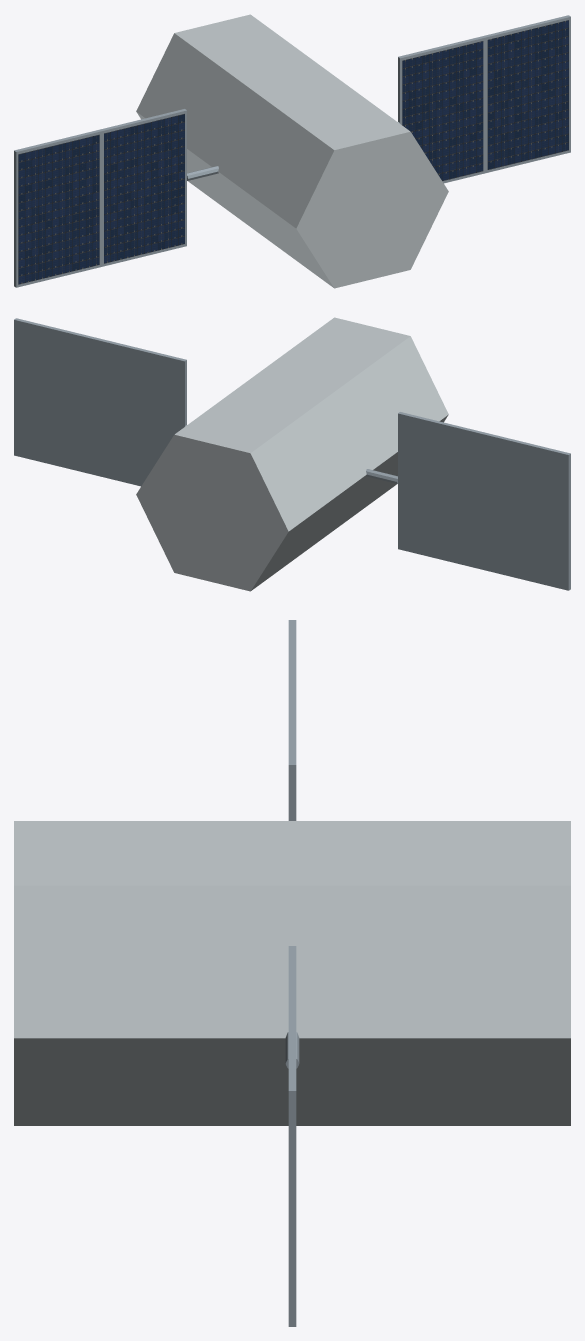
The model's file is ref-leostar-25123.glb.
3 views of the same model, one above another, from view 1: azimuth 30°, elevation 25°; view 2: azimuth 150°, elevation 25°; view 3: azimuth 270°, elevation 25° (orthographic). The views are drawn at different scales.
Visible parts, largest first — view 1: Spacecraft body, Photovoltaic laminates (×4), Array frame (×4); view 2: Spacecraft body, Array frame (×4); view 3: Spacecraft body, Array frame (×2).
Boxes of the visible parts, x1,y1,x2,y2 form: Spacecraft body: [136, 14, 448, 288]; Photovoltaic laminates (×4): [18, 20, 568, 284]; Array frame (×4): [14, 15, 570, 287]; Spacecraft body: [136, 317, 448, 591]; Array frame (×4): [14, 318, 570, 590]; Spacecraft body: [14, 821, 570, 1125]; Array frame (×2): [288, 692, 296, 1326].
Size of the model in its own units: 4 by 0.9526 by 2.
Materials: 3 (1 with a texture image).
